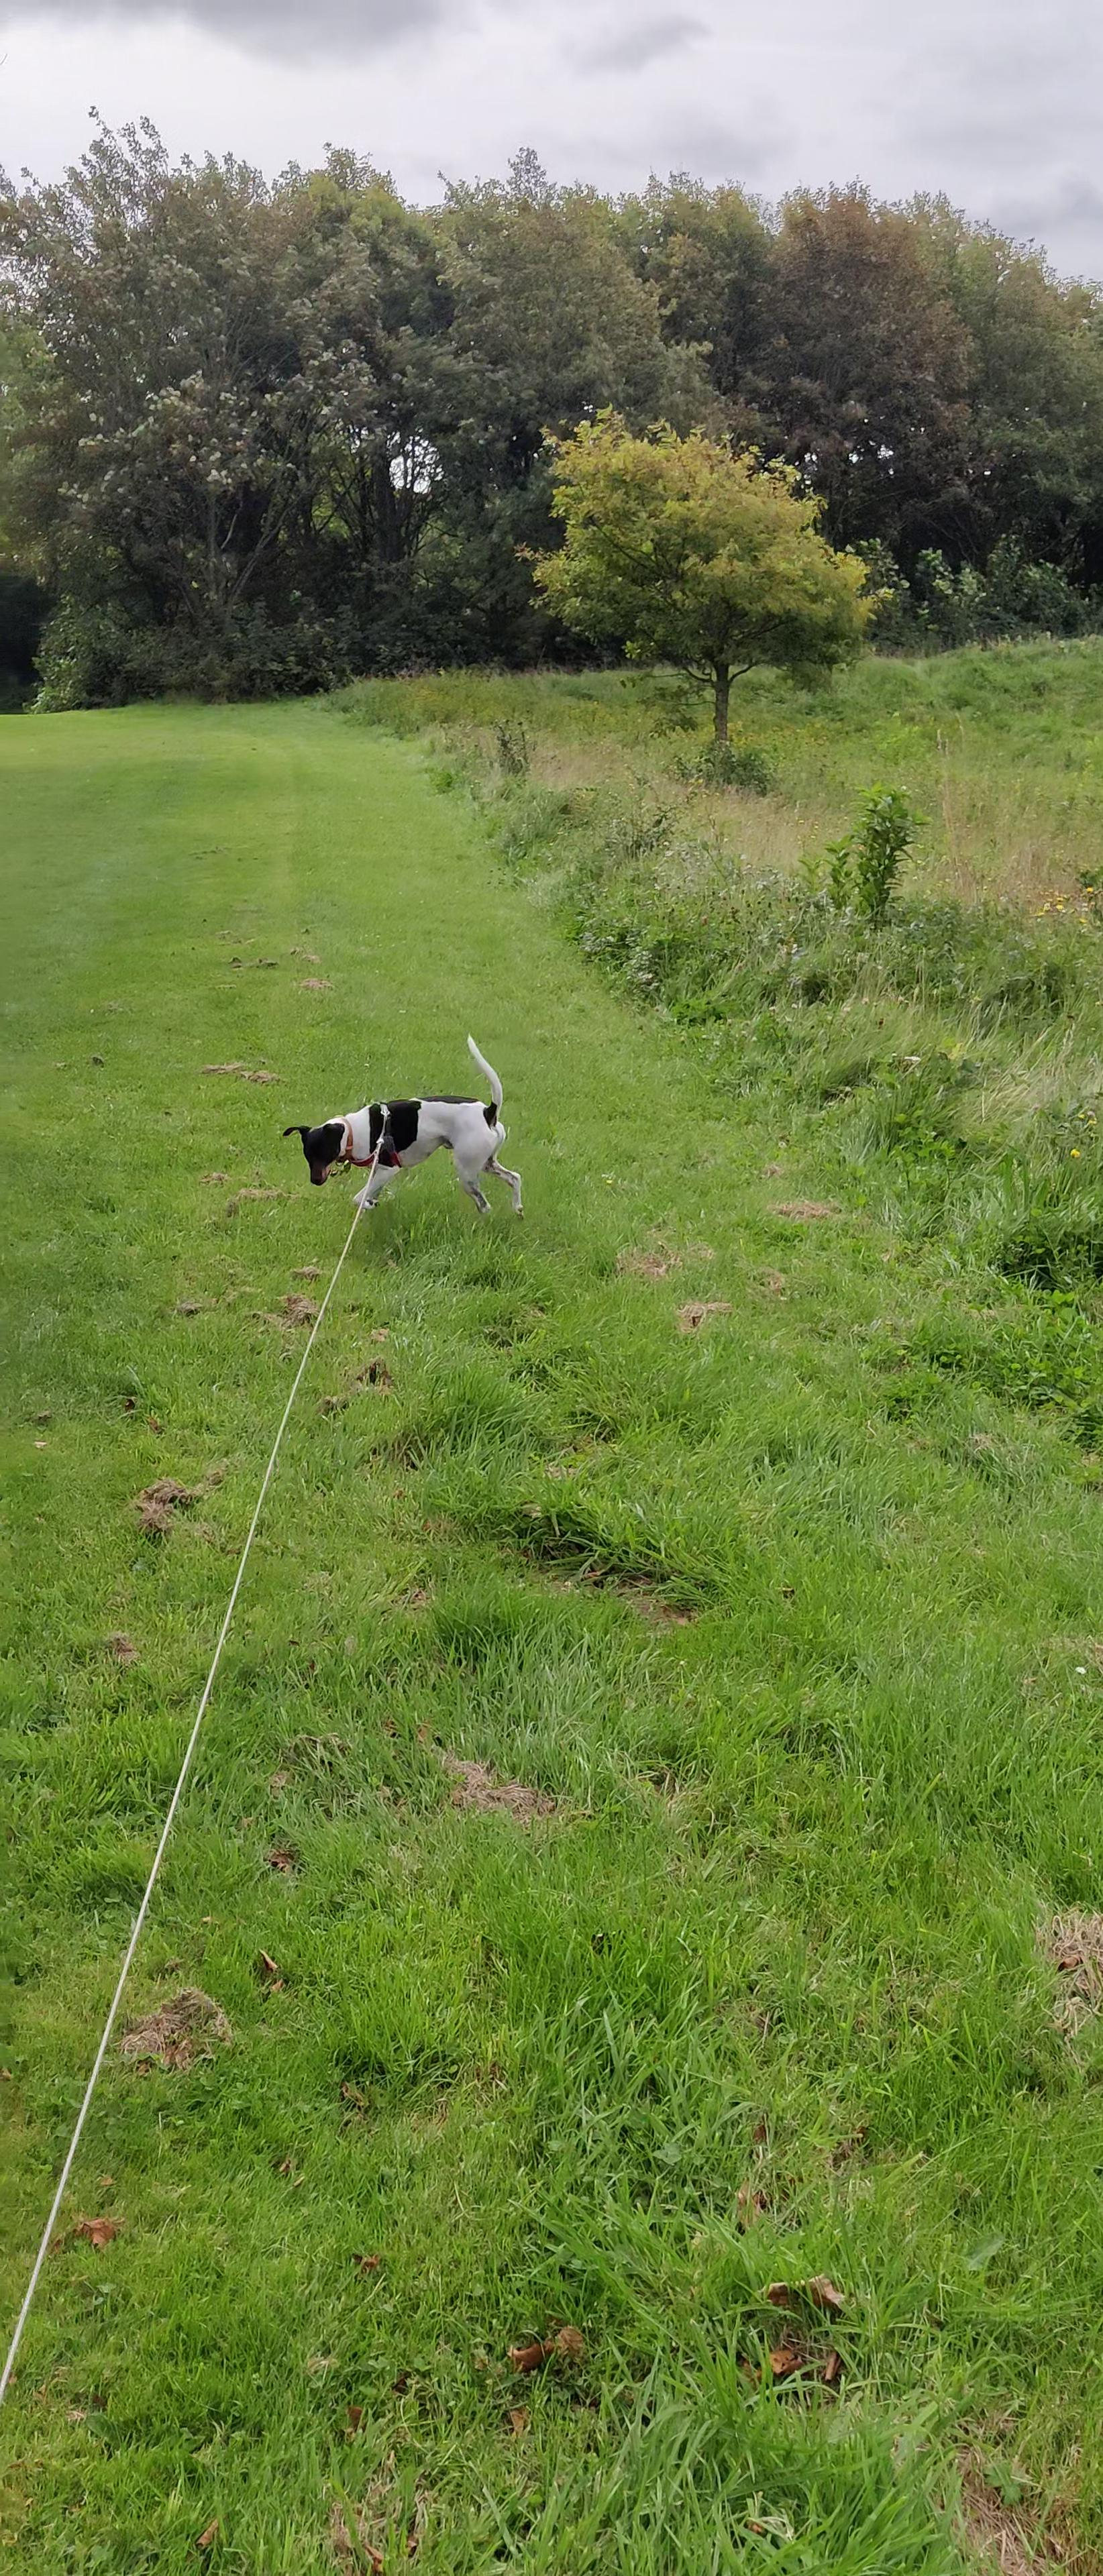Dog: (279, 1030, 534, 1221)
